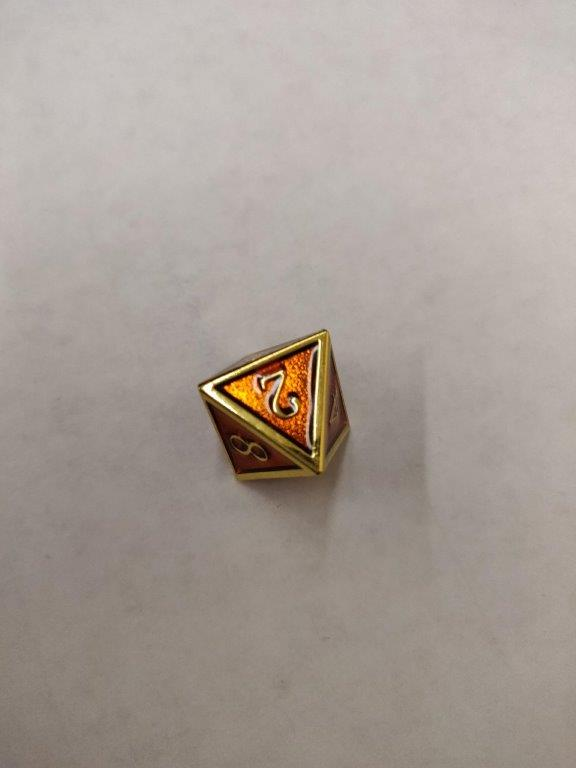d8-2: (198, 329, 352, 483)
